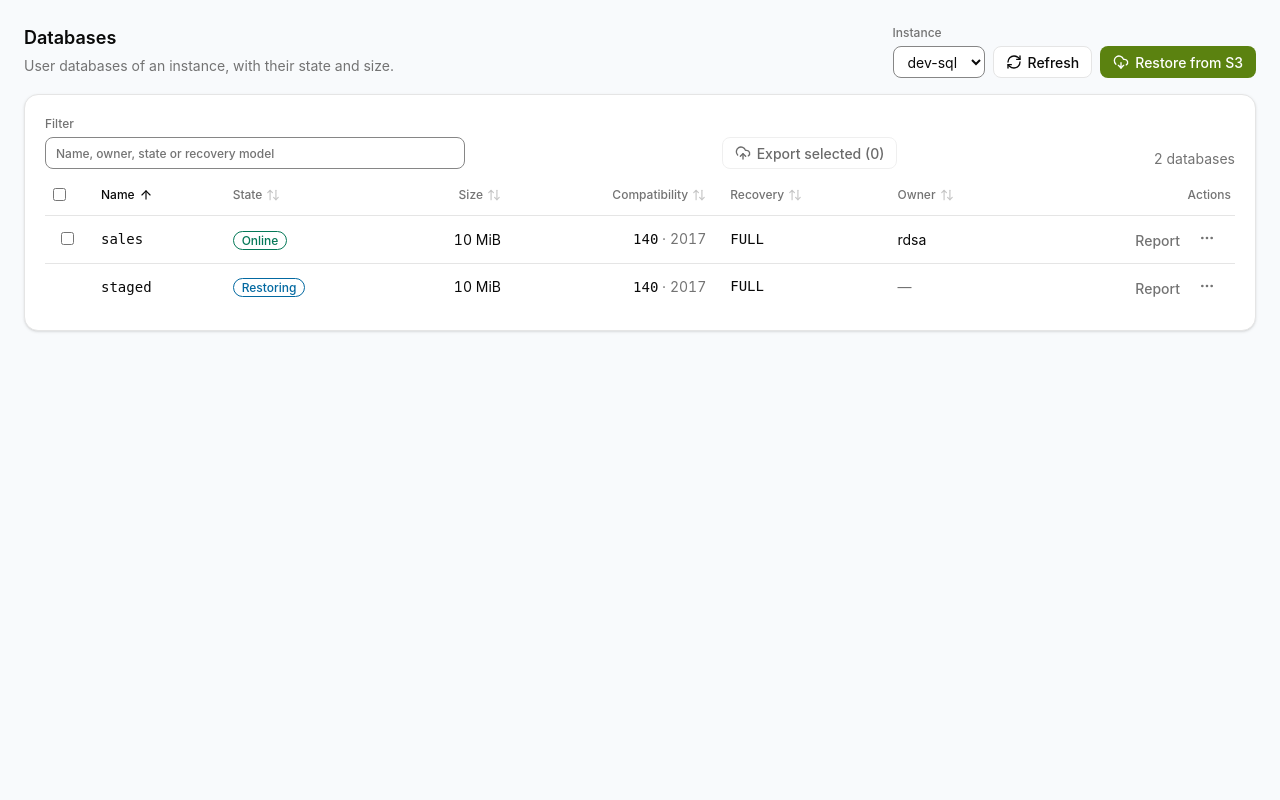
it: DatabasesPage actions › restores from S3 and says when the task keeps running after closing
Expected: the column heading "Actions" is shown, [1025,181,1235,215]
Click the button "Restore from S3".
click(1178, 62)  # box [1100,46,1256,78]
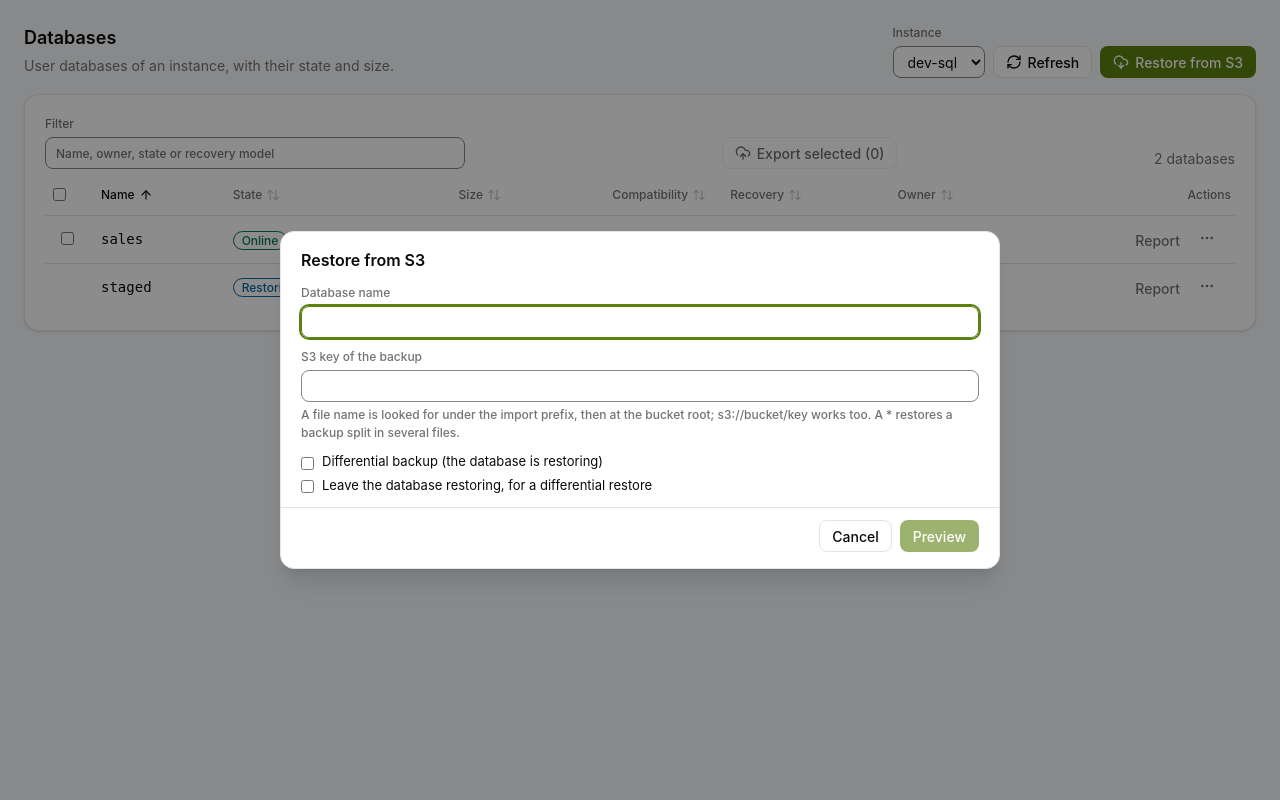
Type "sales_copy" into the field labelled "Database name".
click(640, 322); type("sales_copy")  # box [301,306,979,338]
Type "sales.bak" into the field labelled "S3 key of the backup".
click(640, 386); type("sales.bak")  # box [301,370,979,402]
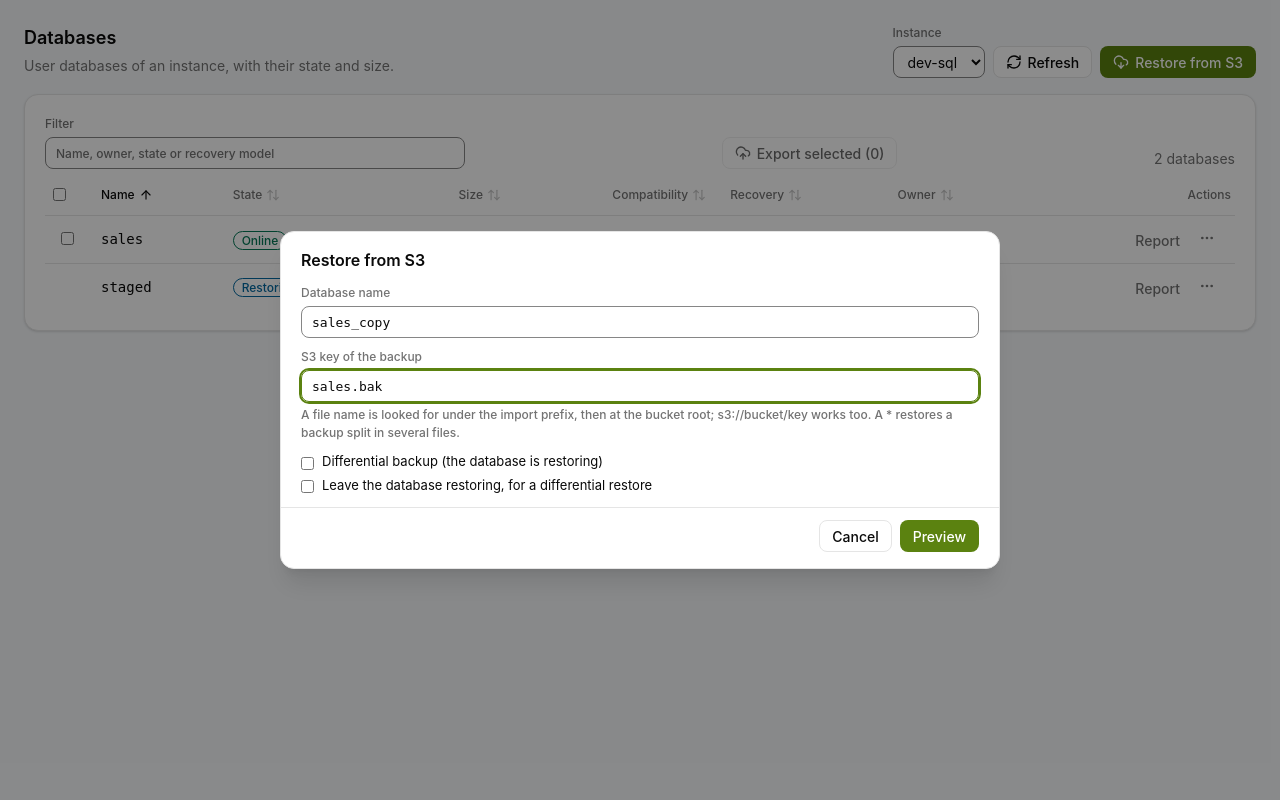
Click the button "Preview".
click(939, 536)  # box [900,520,979,552]
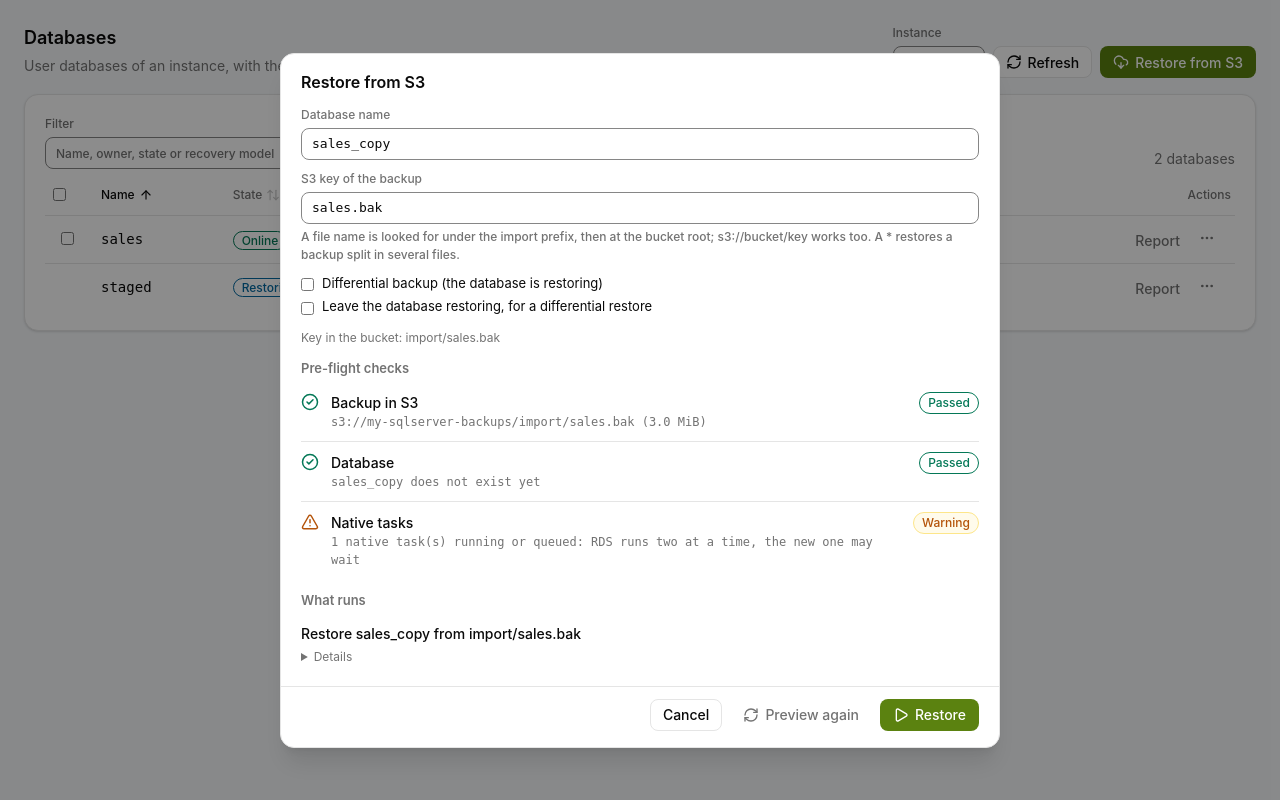
Click the button "Restore".
click(929, 714)  # box [880,698,979,730]
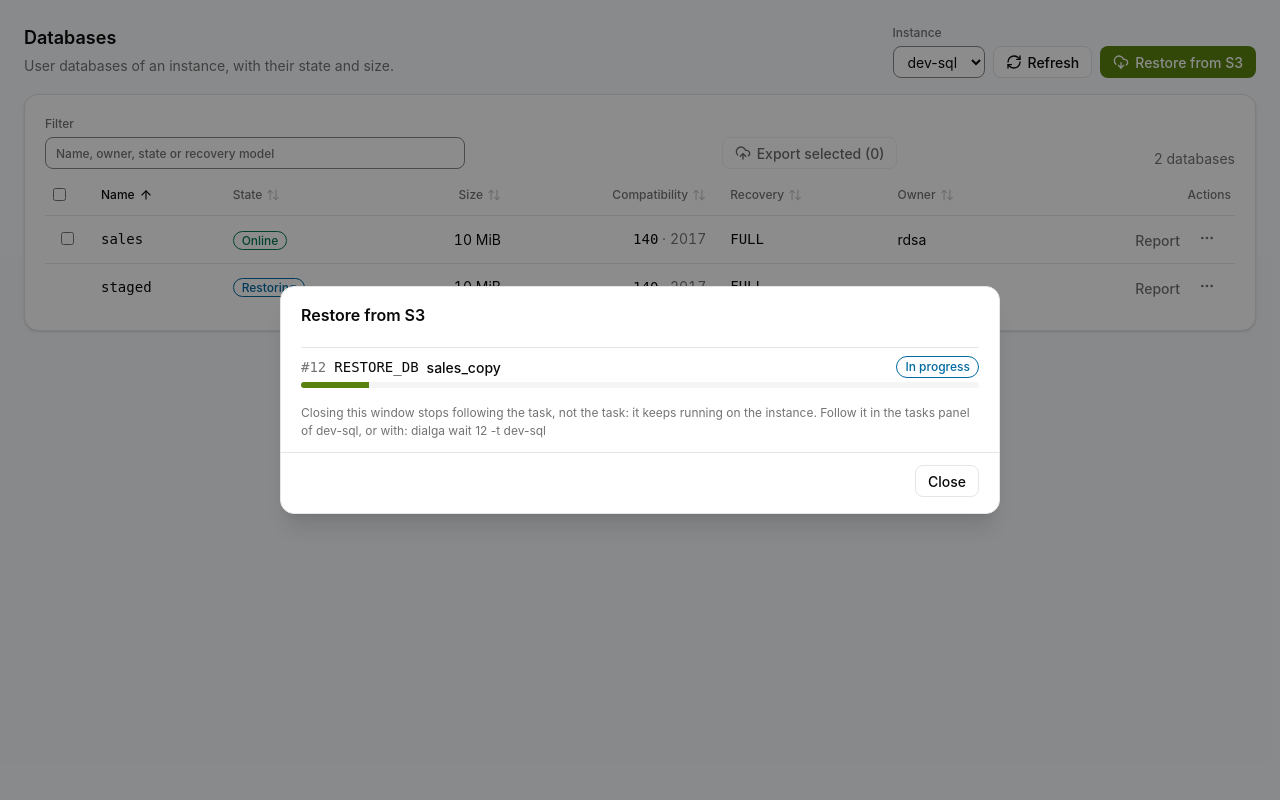
Expected: the progress indicator is shown, [301,382,979,388]
Click the button "Close".
click(947, 481)  # box [915,465,979,497]
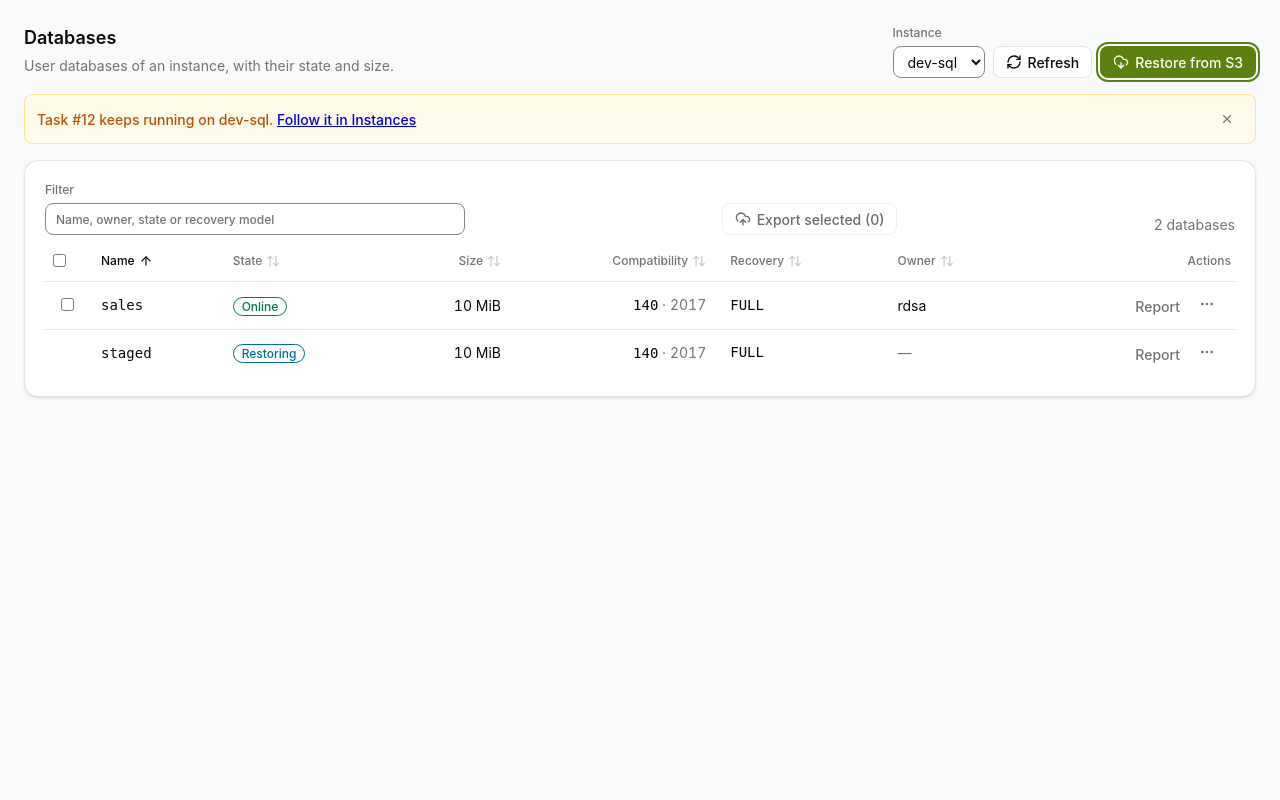
Expected: the text "Task #12 keeps running on dev-sql." is shown, [37,110,273,128]
Click the button named "Dismiss".
click(1227, 119)  # box [1211,105,1243,133]
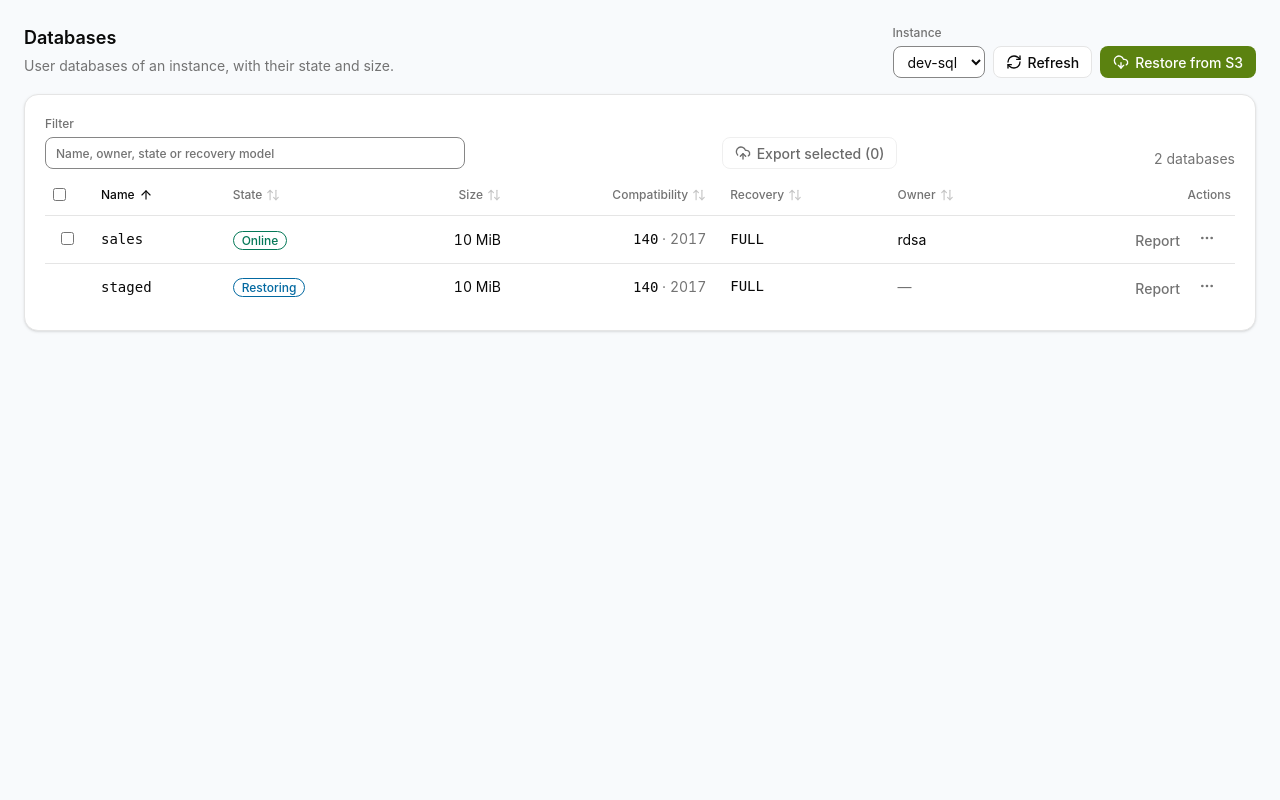
Expected: the text "Task #12 keeps running on dev-sql." is gone
